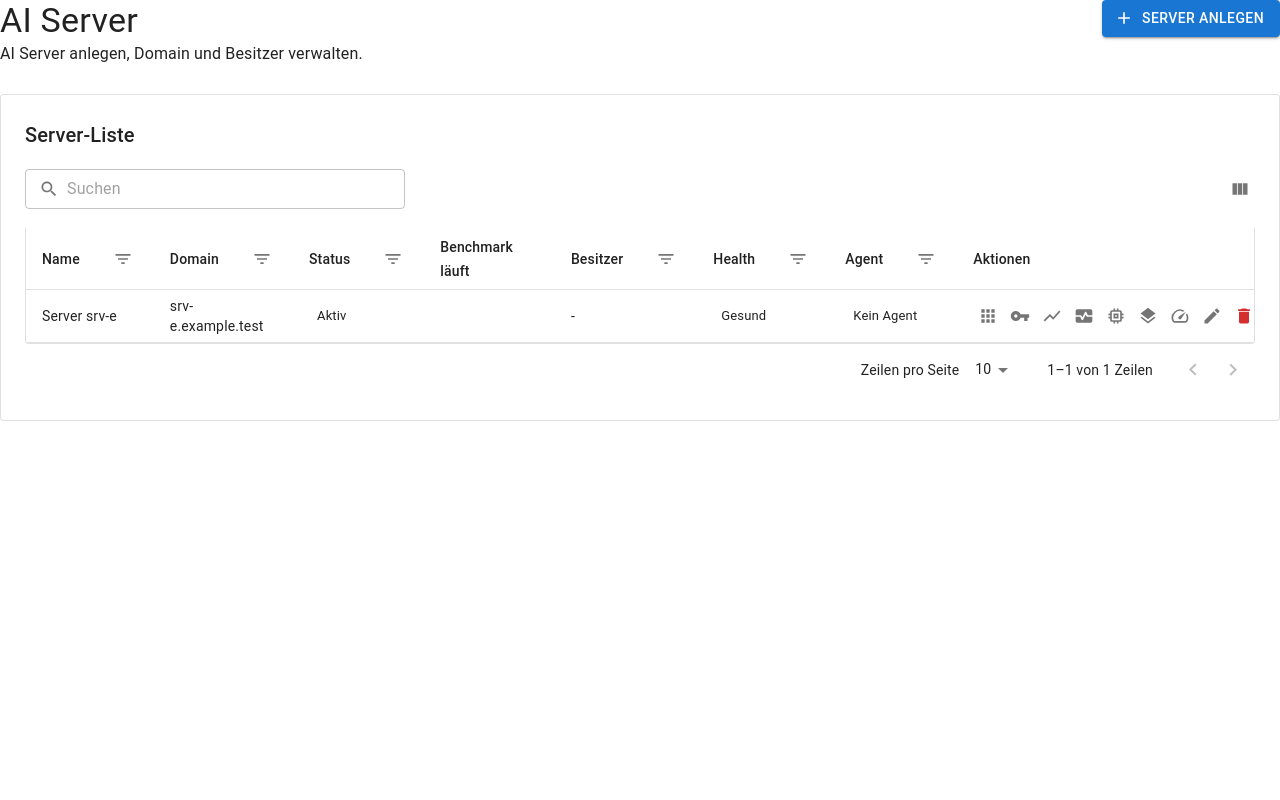
Test: ServerList energy config › re-displays the same underlying price after switching units, without reinterpreting the typed number
Click the button named "Bearbeiten" at (1212, 316), box [1197,301,1227,331]
(page scrolled)
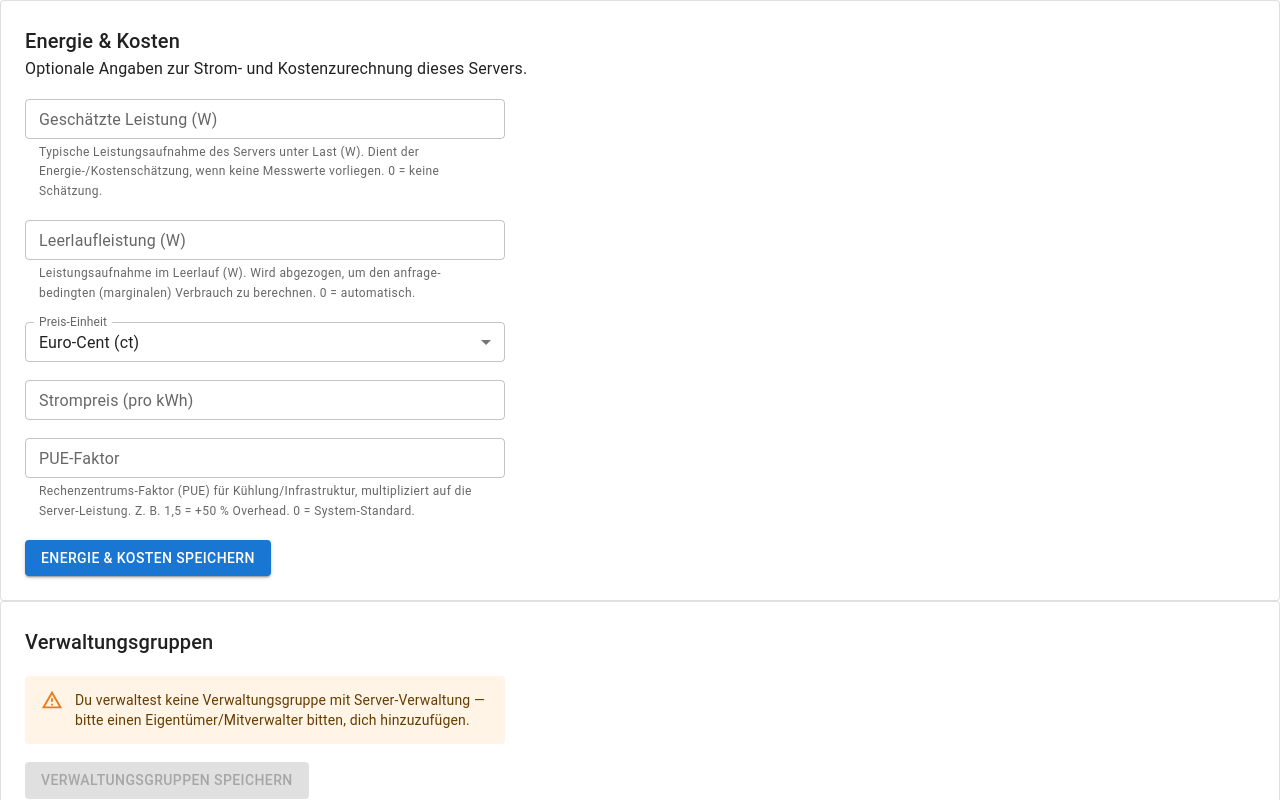
Type "30" into the number field labelled "Strompreis (pro kWh)" at (265, 400), box [25,380,505,420]
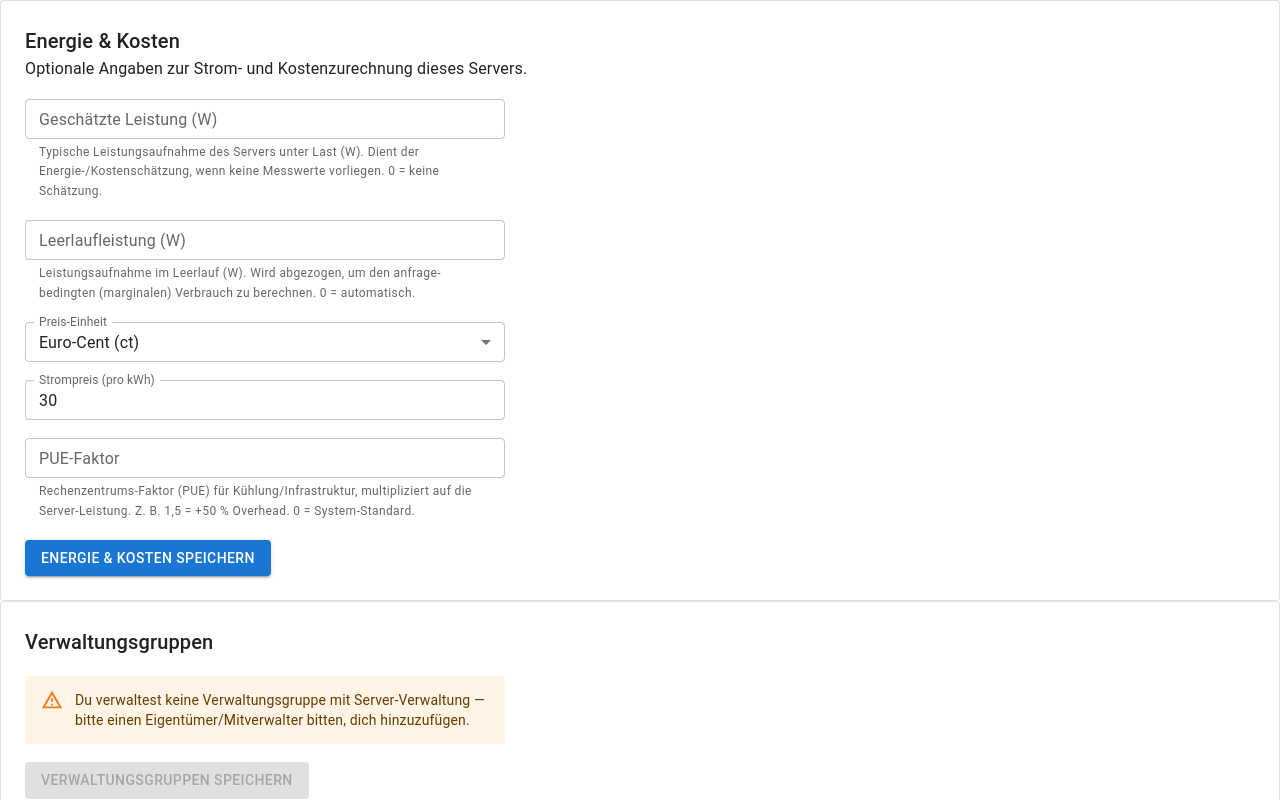
Press the mouse on the dropdown named "Preis-Einheit" at (89, 342), box [39,332,139,352]
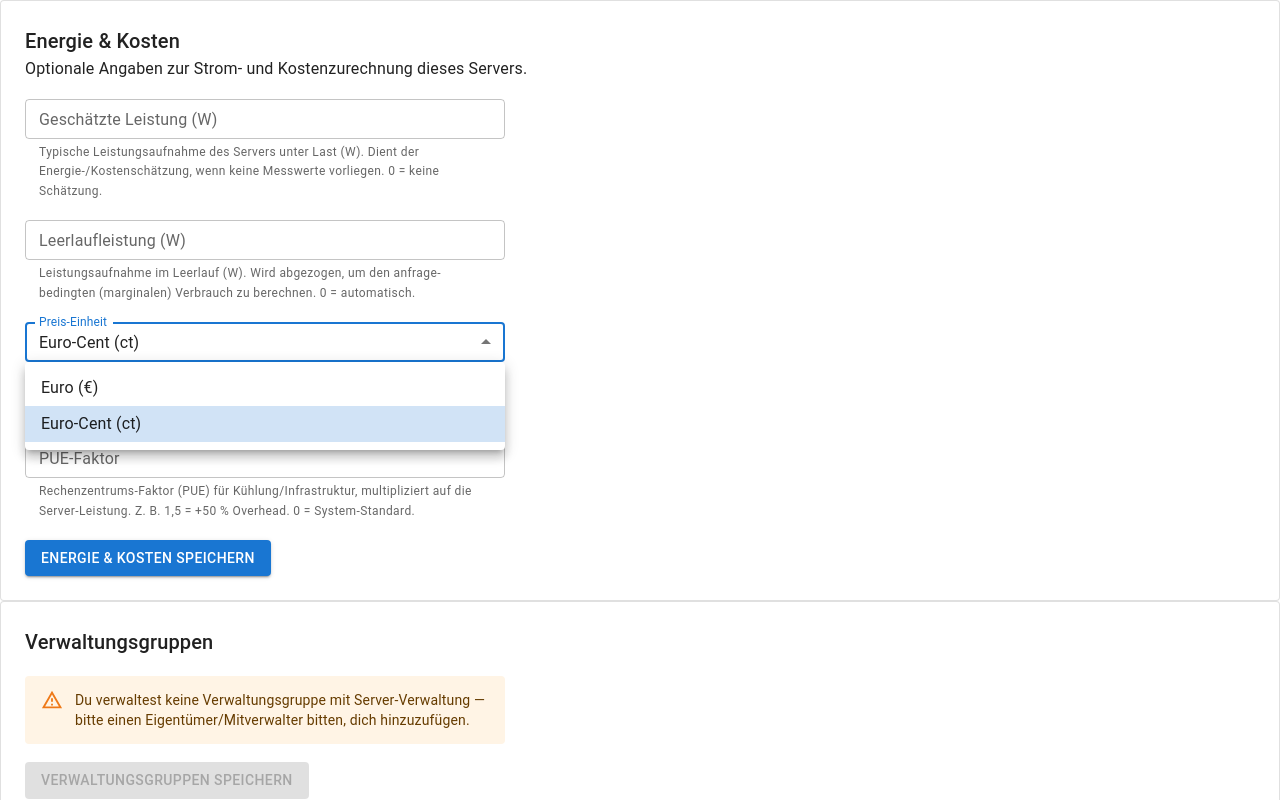
Click the option "Euro (€)" at (70, 388), box [41,378,98,397]
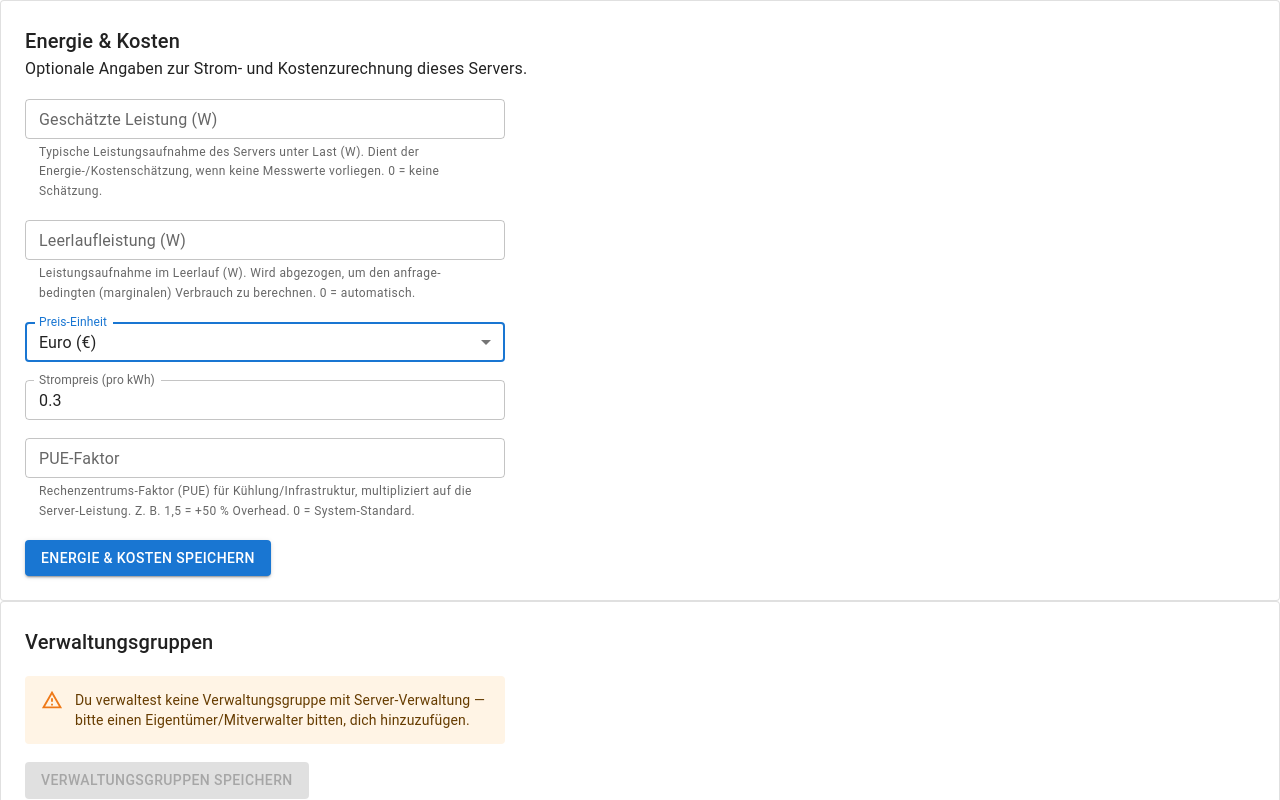
Expected: the number field labelled "Strompreis (pro kWh)" holds "0.3", [25,380,505,420]
